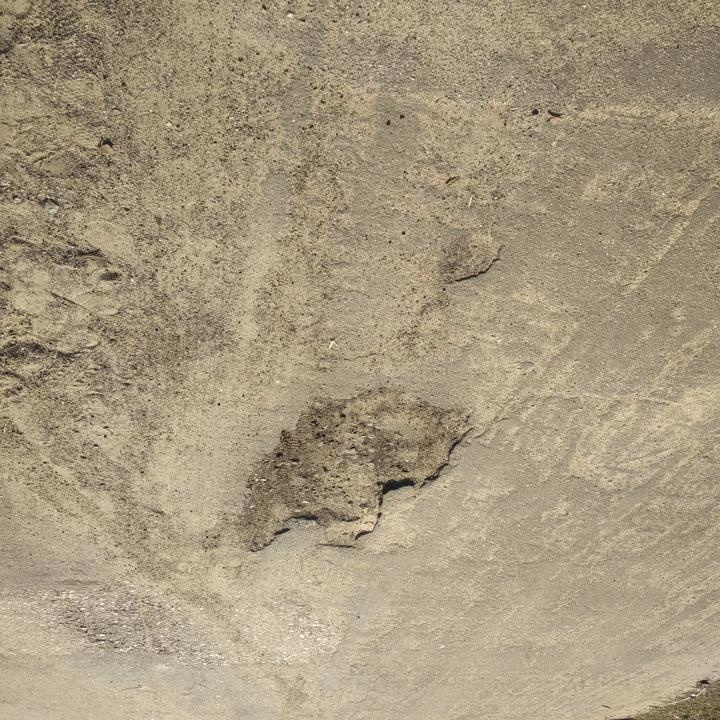pothole: (234, 385, 480, 557), (440, 228, 506, 288)
